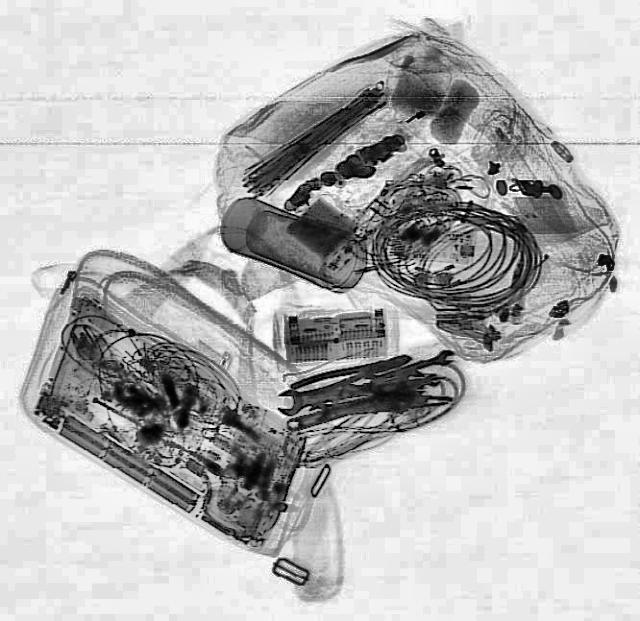Pliers: (287, 346, 415, 400)
Wrench: (272, 375, 366, 417), (374, 345, 456, 384)
